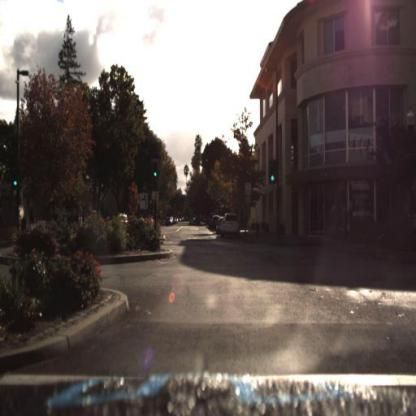car: (221, 208, 242, 238)
pedestrian: (340, 203, 350, 243)
trafficLight: (152, 160, 163, 186), (10, 169, 20, 197), (269, 154, 279, 180)
trafficLight-Green: (153, 159, 160, 183), (14, 166, 19, 189)
